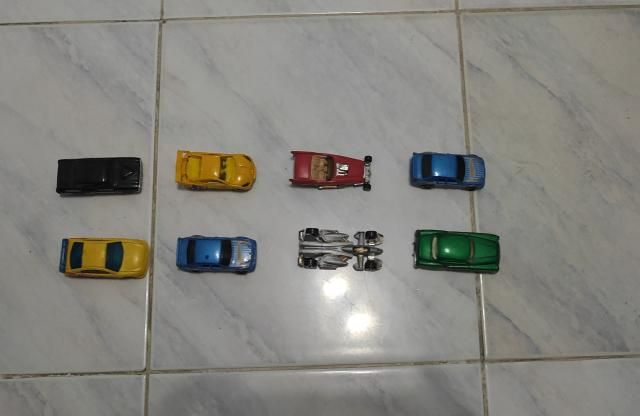01_FORD: (56, 158, 142, 196)
02_OZSOME: (59, 237, 150, 280)
03_V8: (288, 151, 374, 192)
04_MERZEDES: (175, 236, 259, 276), (408, 152, 487, 193)
05_DC121: (297, 227, 384, 274)
06_MASERATI: (412, 230, 502, 276)
